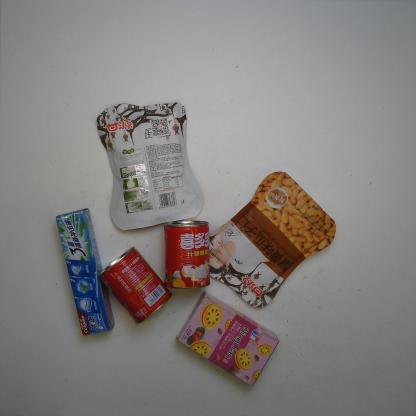Canned Food: (97, 243, 171, 327), (162, 218, 212, 291)
Dessert: (175, 288, 280, 387)
Dried Fruit: (204, 169, 339, 311), (96, 100, 213, 231)
Personal Hygiene: (54, 206, 115, 338)
